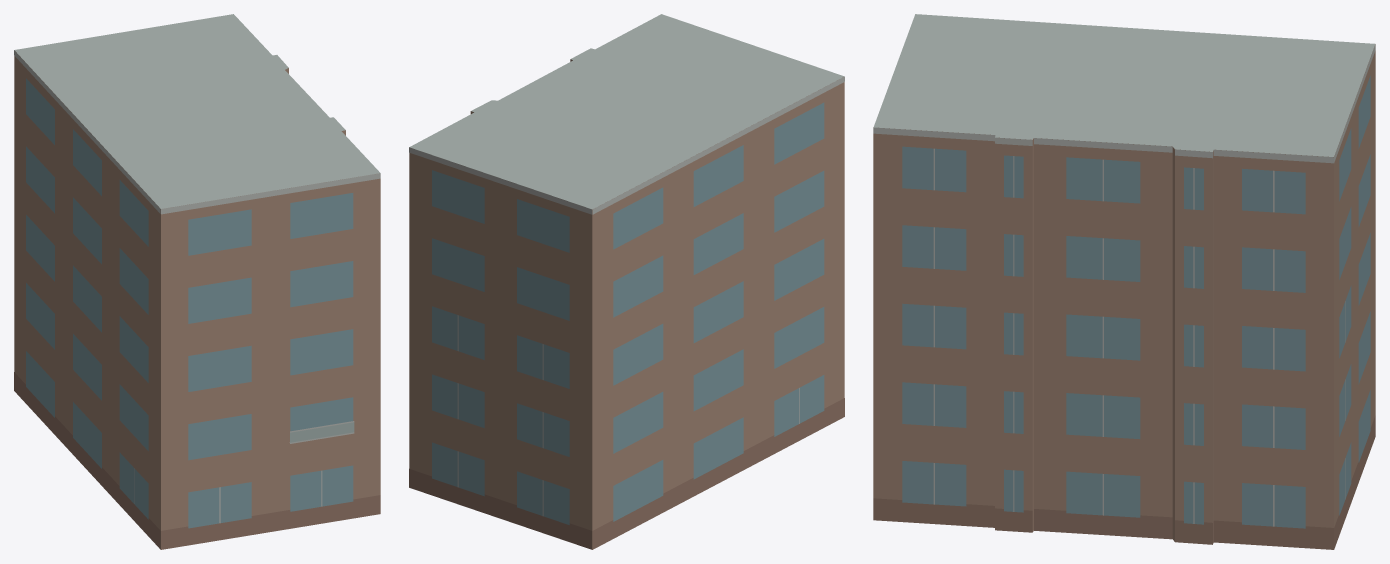
File: survey-upis-33006283.glb
3 renders of one model, left to right at view 1: azimuth 30°, elevation 25°; view 2: azimuth 150°, elevation 25°; view 3: azimuth 270°, elevation 25°, orthographic. The views are drawn at different scales.
Visible parts, largest first — view 1: survey-upis-33006283.tmp; view 2: survey-upis-33006283.tmp; view 3: survey-upis-33006283.tmp.
Boxes of the visible parts, x1,y1,x2,y2 form: survey-upis-33006283.tmp: (14, 14, 380, 549); survey-upis-33006283.tmp: (409, 14, 844, 549); survey-upis-33006283.tmp: (873, 14, 1375, 549).
Bounding box in the file's own units: 12.04 × 15.4 × 17.85.
